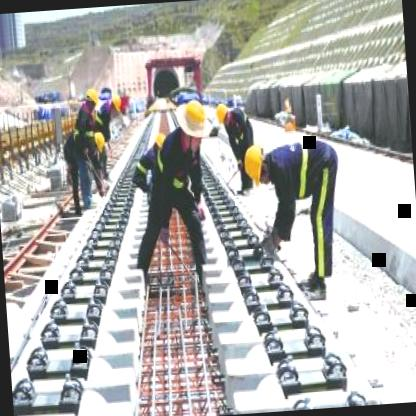helmet: (240, 141, 270, 188), (179, 98, 211, 140), (212, 98, 236, 136), (80, 86, 104, 118), (86, 128, 111, 158), (106, 90, 124, 120), (153, 130, 172, 158)
